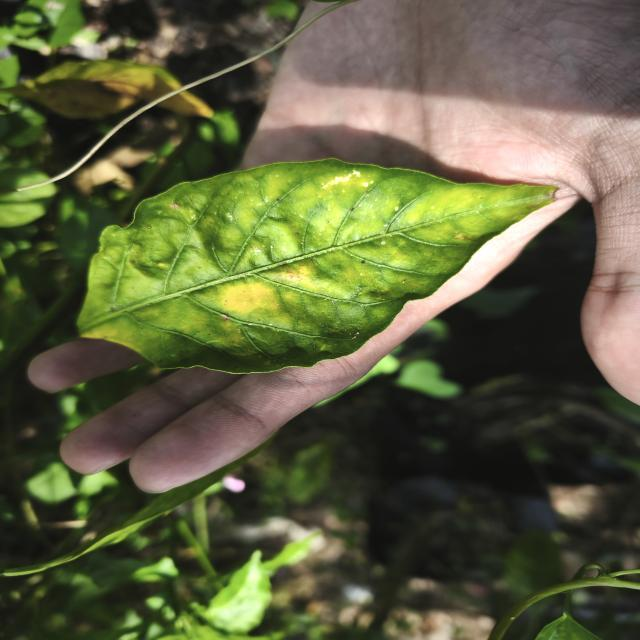Virus Kuning: (76, 157, 560, 376)
